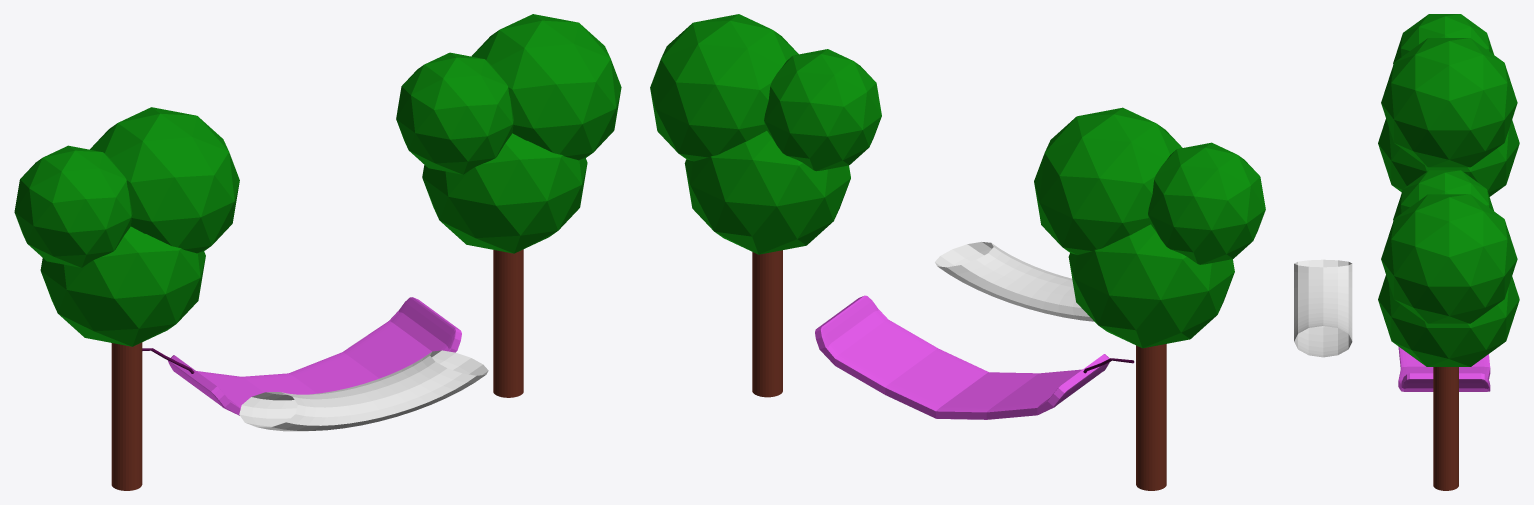
The model's file is hammock.fbx.
3 renders of one model, left to right at view 1: azimuth 30°, elevation 25°; view 2: azimuth 150°, elevation 25°; view 3: azimuth 270°, elevation 25°, orthographic. The views are drawn at different scales.
Visible parts, largest first — view 1: topLR, Icosphere.002, Icosphere, topLB, topLL, Icosphere.001, hammock, Torus, Cylinder, trunkR; view 2: hammock, Icosphere.002, topLR, topLB, Icosphere, Icosphere.001, topLL, Torus, trunkR, Cylinder; view 3: Icosphere.002, topLR, topLB, Torus, Icosphere, trunkR, topLL, Icosphere.001, hammock.
Boxes of the visible parts, bbox=[...] form: topLR: bbox=[471, 14, 621, 160]; Icosphere.002: bbox=[90, 107, 239, 253]; Icosphere: bbox=[40, 226, 205, 346]; topLB: bbox=[422, 133, 587, 253]; topLL: bbox=[396, 52, 513, 174]; Icosphere.001: bbox=[14, 145, 132, 267]; hammock: bbox=[168, 297, 461, 415]; Torus: bbox=[239, 350, 488, 431]; Cylinder: bbox=[111, 342, 142, 490]; trunkR: bbox=[493, 249, 523, 397]; hammock: bbox=[815, 295, 1109, 419]; Icosphere.002: bbox=[1034, 107, 1182, 254]; topLR: bbox=[650, 14, 798, 161]; topLB: bbox=[684, 131, 850, 254]; Icosphere: bbox=[1068, 224, 1234, 348]; Icosphere.001: bbox=[1148, 142, 1265, 264]; topLL: bbox=[764, 49, 881, 171]; Torus: bbox=[935, 242, 1093, 321]; trunkR: bbox=[752, 250, 782, 397]; Cylinder: bbox=[1136, 344, 1166, 490]; Icosphere.002: bbox=[1381, 38, 1517, 167]; topLR: bbox=[1381, 194, 1517, 323]; topLB: bbox=[1378, 275, 1519, 366]; Torus: bbox=[1294, 259, 1352, 357]; Icosphere: bbox=[1378, 119, 1519, 196]; trunkR: bbox=[1433, 367, 1458, 490]; topLL: bbox=[1393, 170, 1493, 220]; Icosphere.001: bbox=[1393, 14, 1493, 63]; hammock: bbox=[1398, 346, 1490, 391].
Size of the model in its own units: 1278 by 750 by 507.
